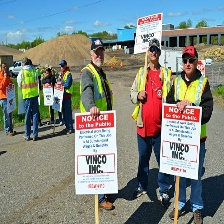person: (171, 45, 213, 224), (131, 39, 172, 201), (82, 39, 115, 113), (20, 56, 40, 141), (58, 57, 77, 136), (1, 60, 18, 138)
vest: (20, 66, 40, 101)
